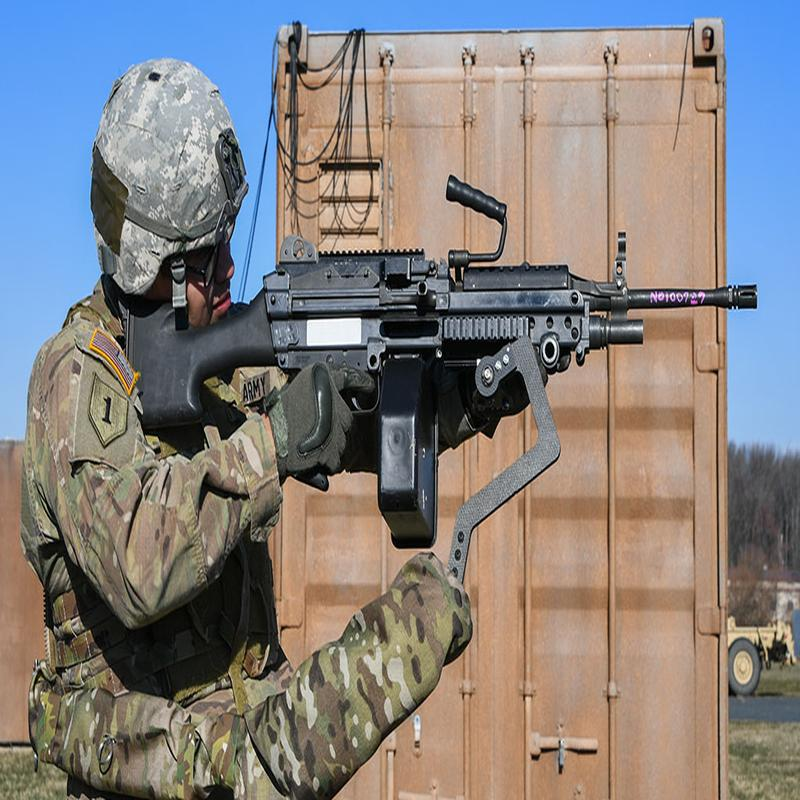GUN: (98, 169, 761, 561)
